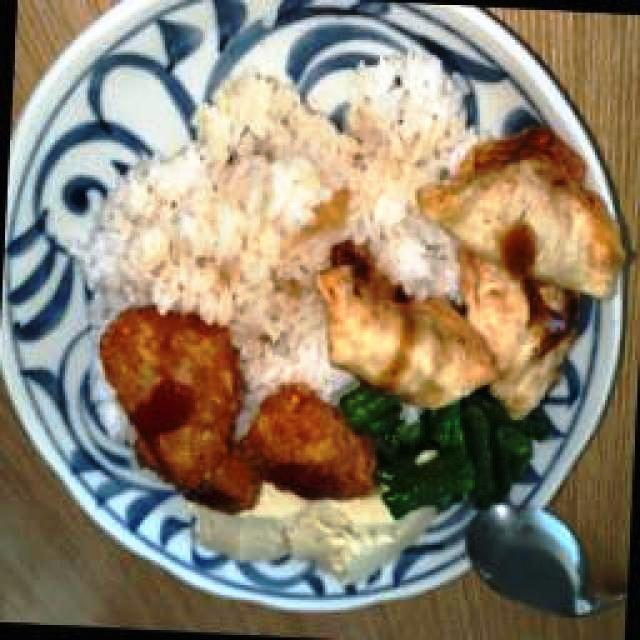chicken_nuggets: (105, 310, 242, 489), (250, 384, 377, 509), (138, 440, 263, 513)
fried_dumplings: (421, 124, 622, 301), (325, 250, 498, 407), (460, 254, 569, 418)
rice: (102, 91, 440, 290), (214, 293, 324, 363)
water_spinach: (359, 401, 543, 505)
